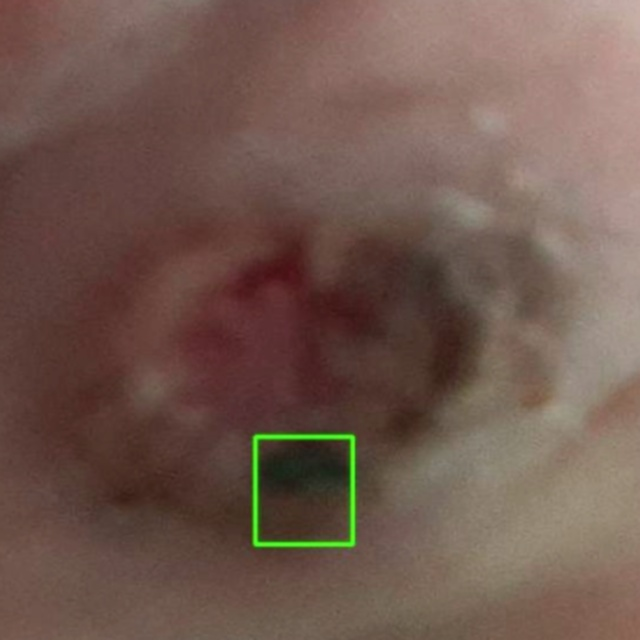Eczema: (255, 436, 352, 544)
